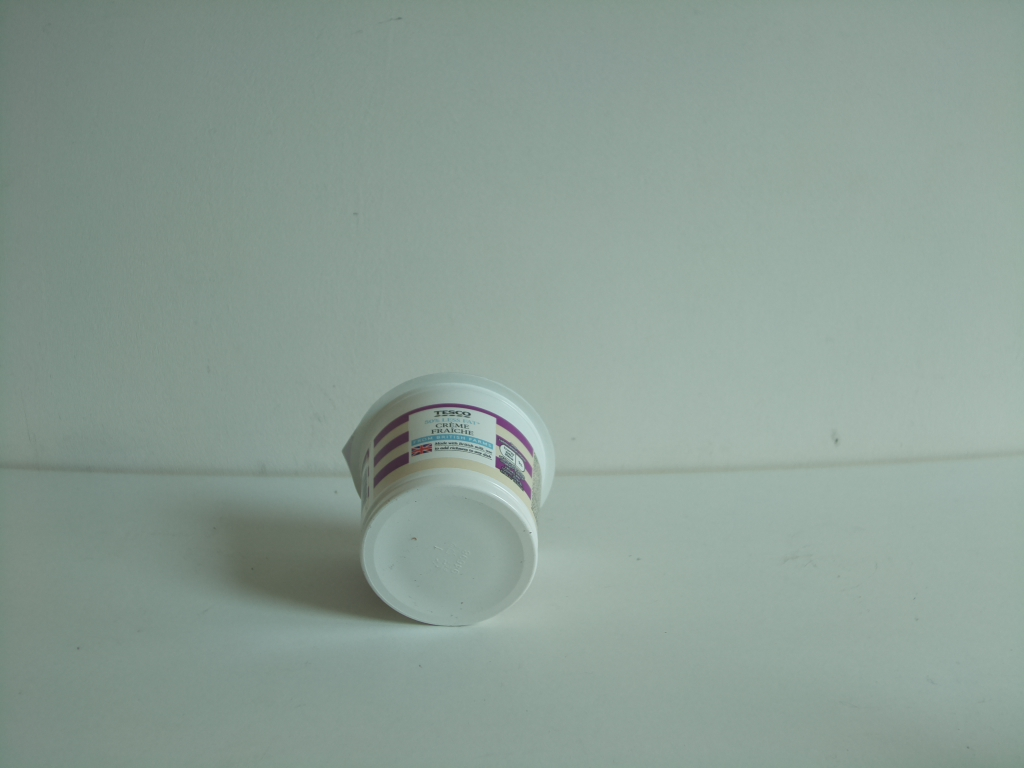cream: (333, 368, 552, 626)
